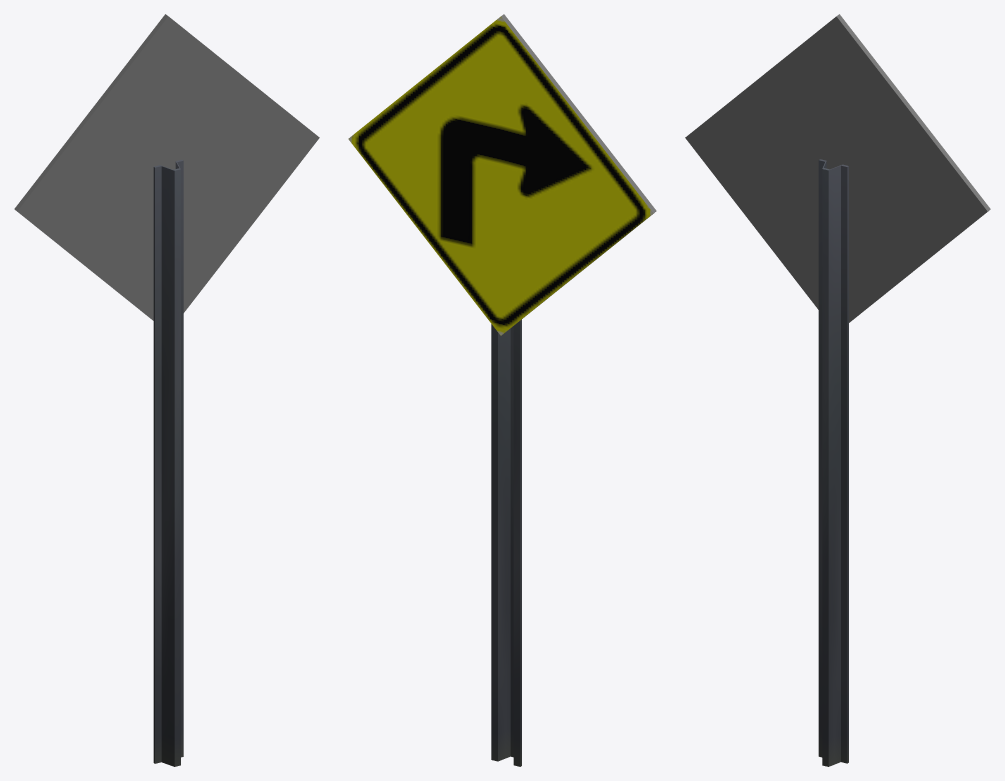
Rendered from warning_right.obj.
3 renders of one model, left to right at view 1: azimuth 30°, elevation 25°; view 2: azimuth 150°, elevation 25°; view 3: azimuth 330°, elevation 25°, orthographic.
Parts seen in each view (by area): view 1: Mesh; view 2: Mesh; view 3: Mesh.
Boxes of the visible parts, x1,y1,x2,y2 form: Mesh: [14, 14, 319, 766]; Mesh: [348, 14, 656, 766]; Mesh: [685, 14, 990, 766].
Size of the model in its own units: 0.2382 by 0.5585 by 0.0181.
